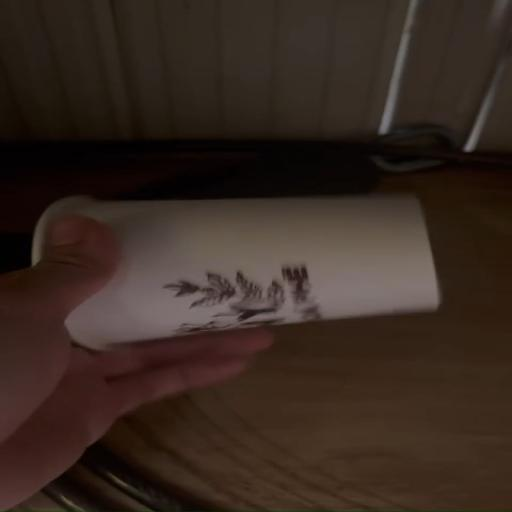Ly_giay: (32, 195, 439, 348)
